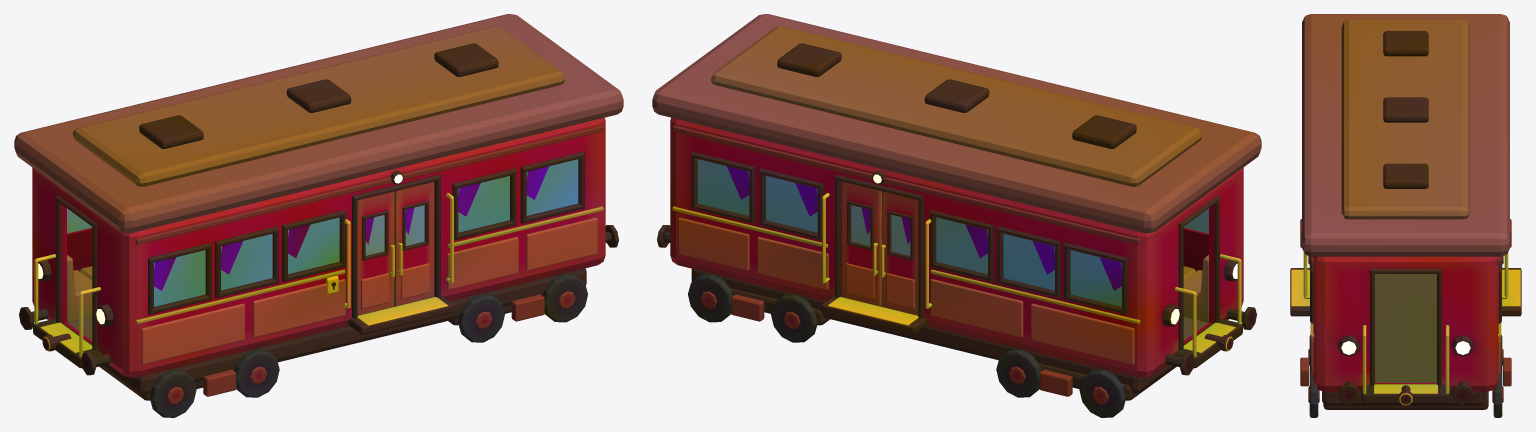
The model's file is RegionalWagon_Blockout.glb.
The picture shows the model from 3 angles, left to right: view 1: azimuth 30°, elevation 25°; view 2: azimuth 150°, elevation 25°; view 3: azimuth 270°, elevation 25°; orthographic projection. The views are drawn at different scales.
Parts seen in each view (by area): view 1: Roof, Body, Windows, Livery, Underframe, Ends, DoorLeaf_R, DoorLeaf_L, DoorSill, DoorFrame, Interior, GrabRails; view 2: Roof, Body, Windows, Livery, Underframe, Ends, DoorLeaf_R_Far, DoorLeaf_L_Far, DoorSill_Far, DoorFrame_Far, Interior, GrabRails_Far; view 3: Roof, Body, Interior, Ends, Underframe, DoorSill, DoorSill_Far, Windows, Livery, Coupler_Front, GrabRails, GrabRails_Far.
Part boxes in pixels (x1=…): Roof: x1=14, y1=14, x2=623, y2=233; Body: x1=32, y1=117, x2=605, y2=377; Windows: x1=67, y1=151, x2=584, y2=314; Livery: x1=135, y1=125, x2=603, y2=364; Underframe: x1=99, y1=268, x2=587, y2=417; Ends: x1=19, y1=195, x2=618, y2=375; DoorLeaf_R: x1=394, y1=181, x2=434, y2=305; DoorLeaf_L: x1=357, y1=191, x2=393, y2=315; DoorSill: x1=348, y1=296, x2=454, y2=334; DoorFrame: x1=352, y1=174, x2=440, y2=318; Interior: x1=67, y1=192, x2=394, y2=340; GrabRails: x1=344, y1=193, x2=453, y2=308; Roof: x1=652, y1=14, x2=1261, y2=233; Body: x1=670, y1=117, x2=1243, y2=377; Windows: x1=691, y1=151, x2=1208, y2=314; Livery: x1=672, y1=125, x2=1140, y2=364; Underframe: x1=688, y1=268, x2=1176, y2=417; Ends: x1=657, y1=195, x2=1256, y2=375; DoorLeaf_R_Far: x1=841, y1=181, x2=881, y2=305; DoorLeaf_L_Far: x1=882, y1=191, x2=918, y2=315; DoorSill_Far: x1=821, y1=296, x2=927, y2=334; DoorFrame_Far: x1=835, y1=174, x2=923, y2=318; Interior: x1=881, y1=192, x2=1208, y2=340; GrabRails_Far: x1=822, y1=193, x2=931, y2=308; Roof: x1=1302, y1=14, x2=1509, y2=256; Body: x1=1313, y1=256, x2=1498, y2=391; Interior: x1=1375, y1=274, x2=1436, y2=382; Ends: x1=1337, y1=268, x2=1474, y2=404; Underframe: x1=1300, y1=219, x2=1511, y2=417; DoorSill: x1=1290, y1=268, x2=1309, y2=316; DoorSill_Far: x1=1502, y1=268, x2=1521, y2=316; Windows: x1=1310, y1=256, x2=1501, y2=323; Livery: x1=1310, y1=256, x2=1501, y2=373; Coupler_Front: x1=1398, y1=385, x2=1413, y2=405; GrabRails: x1=1303, y1=252, x2=1309, y2=298; GrabRails_Far: x1=1502, y1=252, x2=1508, y2=298.
Bounding box in the file's own units: 8.16 × 3.44 × 3.24.
